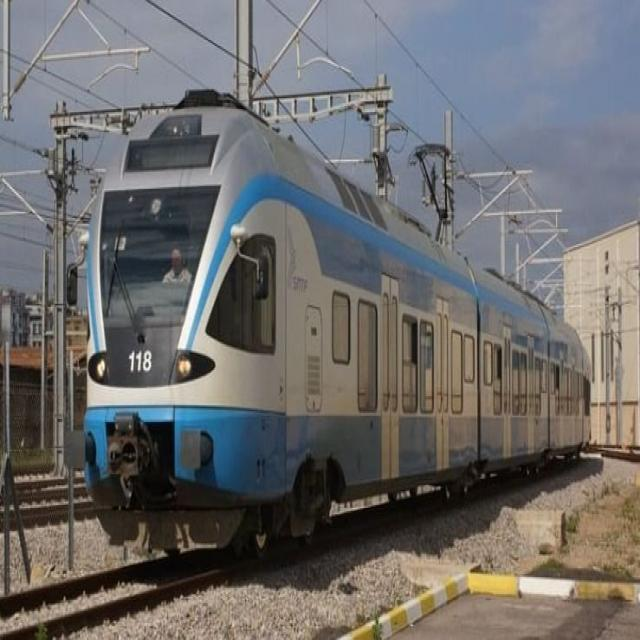Train: (122, 104, 607, 481)
